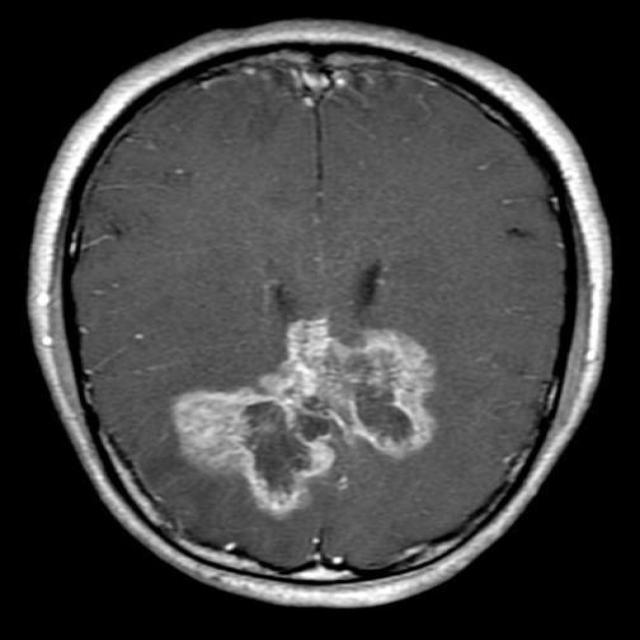brain tumor: (173, 319, 436, 516)
